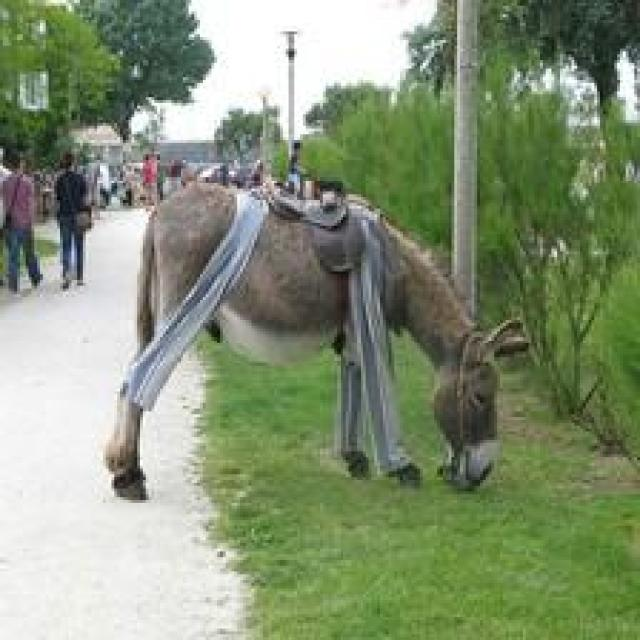Donkey: (103, 177, 531, 500)
